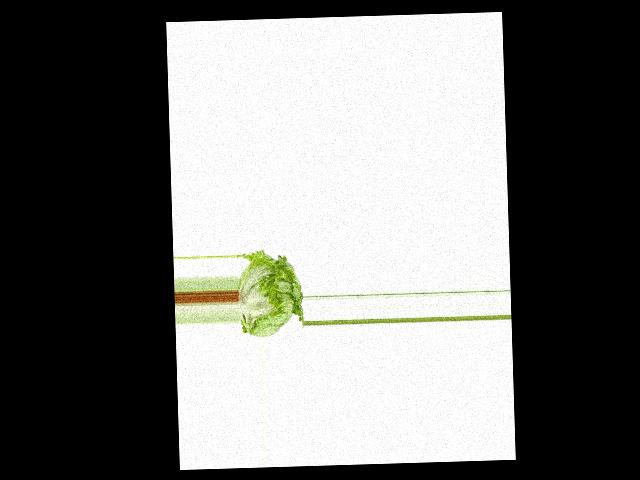lettuce: (236, 246, 303, 340)
